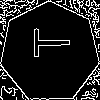T: (25, 27, 70, 59)
